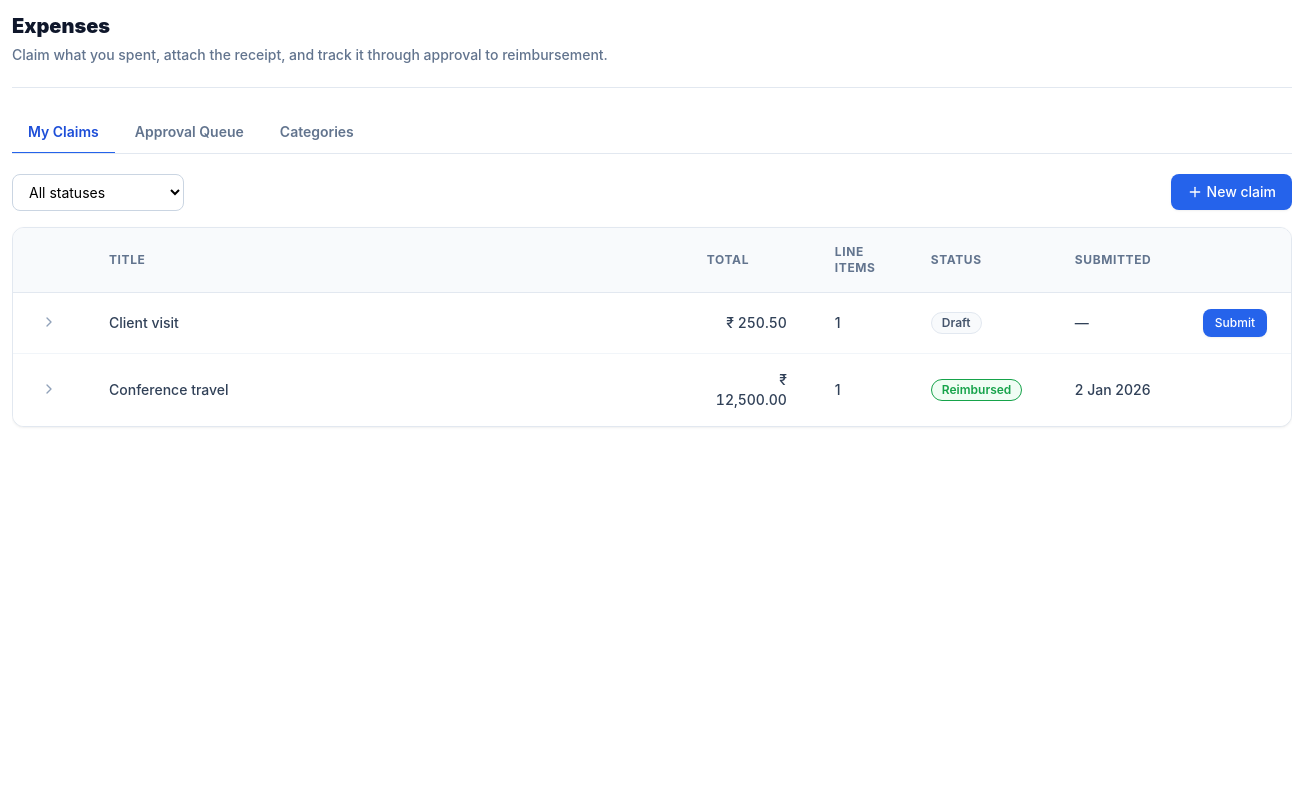
Test: the new claim drawer › cannot remove the only line item
Expected: the text "Client visit" is shown, [85,292,683,353]
Click the button "New claim".
click(1231, 192)  # box [1170,174,1292,210]
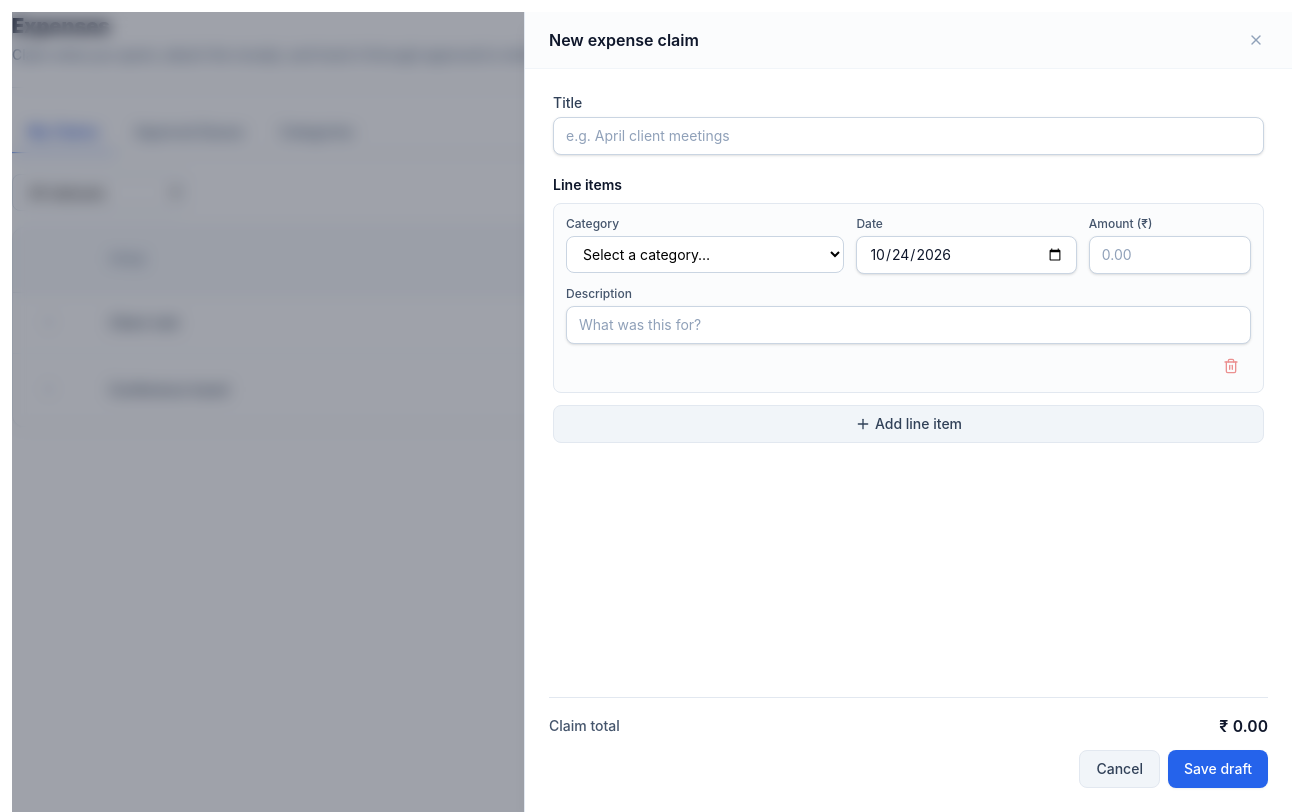
Expected: the button named "Remove line item 1" is disabled, [1211,352,1251,380]
